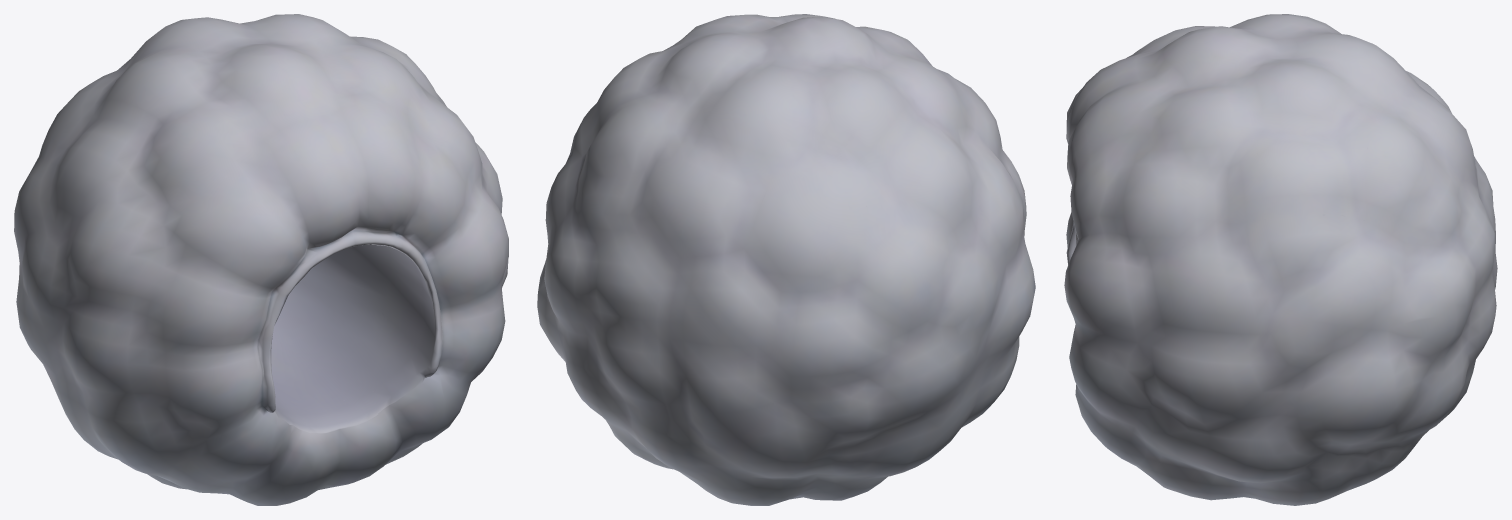
Rendered from hair_afro.glb.
3 views of the same model, side by side, from view 1: azimuth 30°, elevation 25°; view 2: azimuth 150°, elevation 25°; view 3: azimuth 270°, elevation 25° (orthographic).
Parts seen in each view (by area): view 1: geometry_0; view 2: geometry_0; view 3: geometry_0.
Boxes of the visible parts, <box> form: geometry_0: <box>14,14,508,505</box>; geometry_0: <box>537,14,1035,505</box>; geometry_0: <box>1064,14,1497,505</box>.
Bounding box in the file's own units: 0.9502 × 0.9517 × 0.8423.
1 material, 1 textured.
